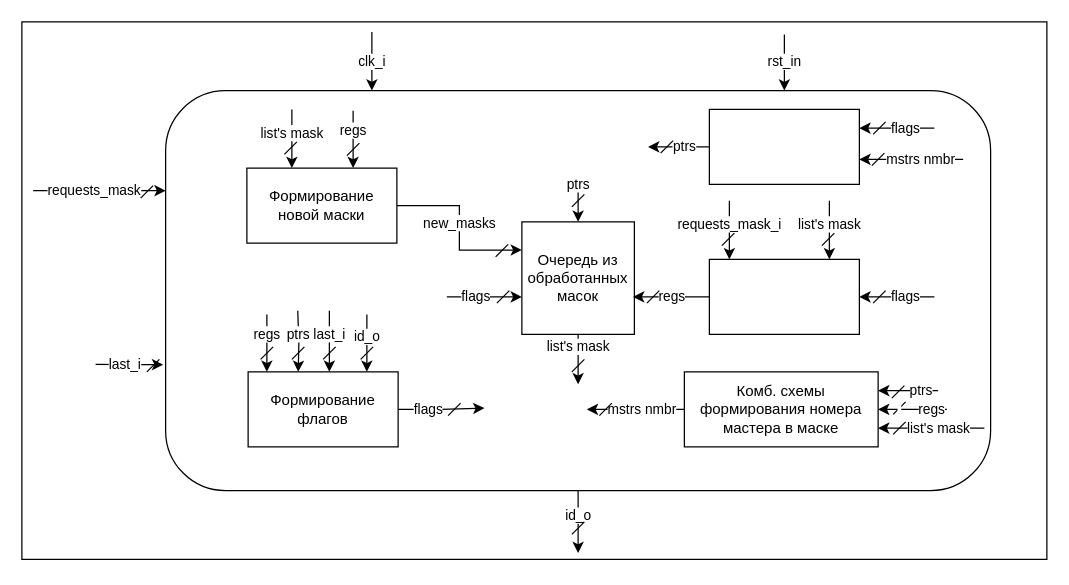
Image size: 1069x585. Some labels were removed from this diagram. Each missing label, with the centre of its shape:
"Формирование вспомогательных регистров" belongs at point (783, 296).
"Формирование указателей" belongs at point (783, 146).
